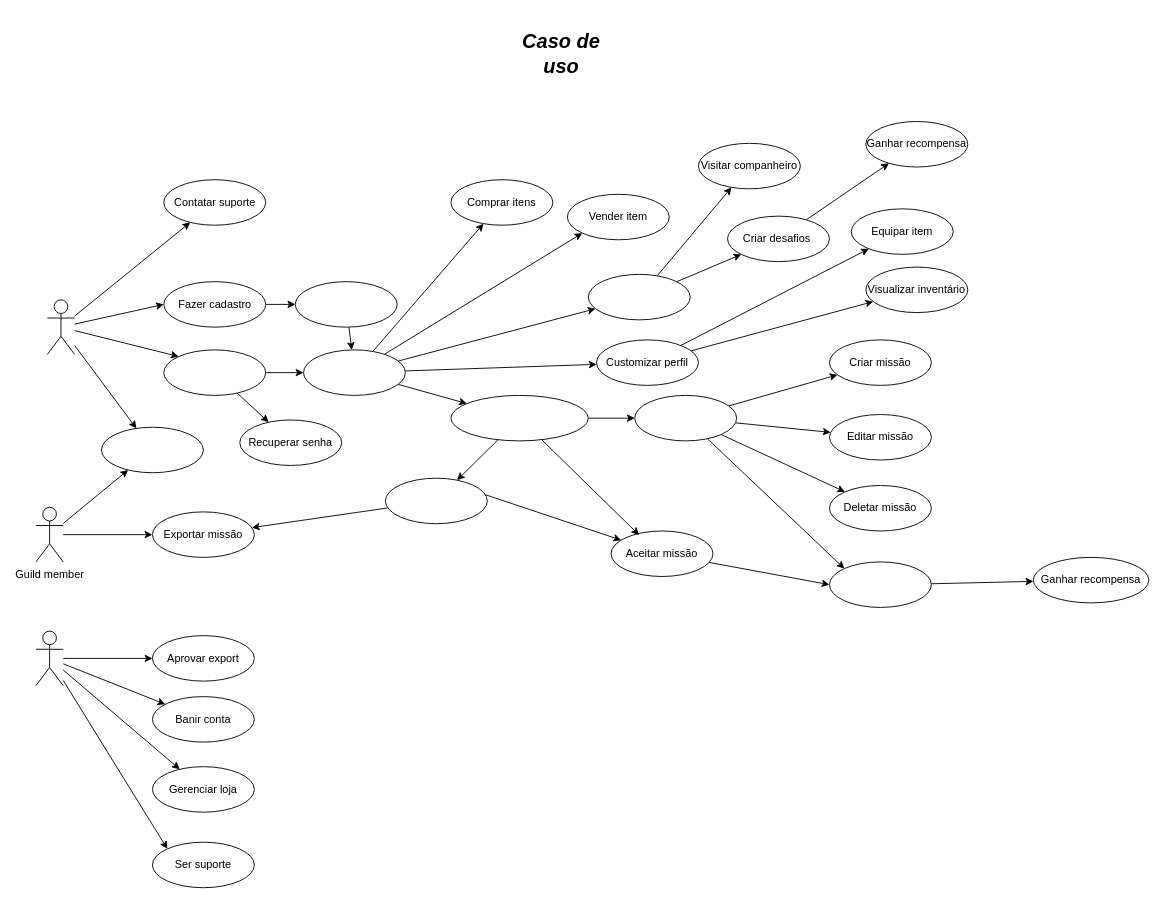
This 1165x904 diagram has some shape labels left out. Each missing label, with the box of its shape:
Adicionar companheiro: (101, 426, 203, 473)
ADM: (35, 630, 63, 686)
Administrar guilda: (587, 273, 690, 320)
Administrar rotina: (303, 349, 405, 395)
Administrar Área da Vida: (450, 394, 588, 441)
Criar rotina: (634, 394, 737, 441)
Escolher classe: (294, 281, 397, 327)
Importar missão: (384, 477, 487, 524)
Main User: (46, 299, 75, 354)
Realizar login: (163, 349, 266, 395)
Realizar missão: (829, 561, 931, 607)
